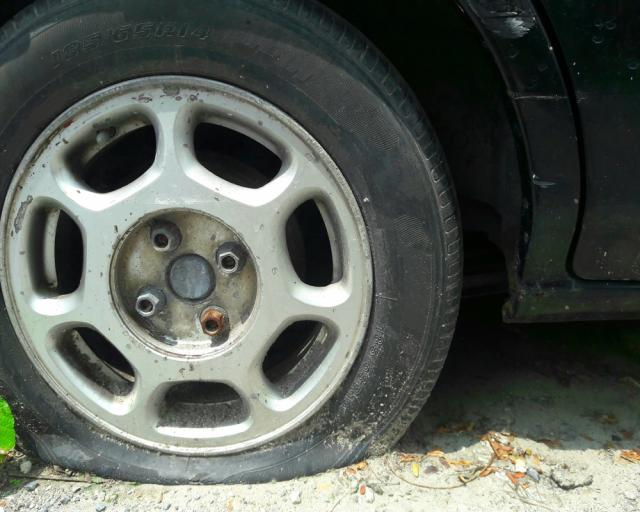tire flat: (0, 0, 465, 486)
